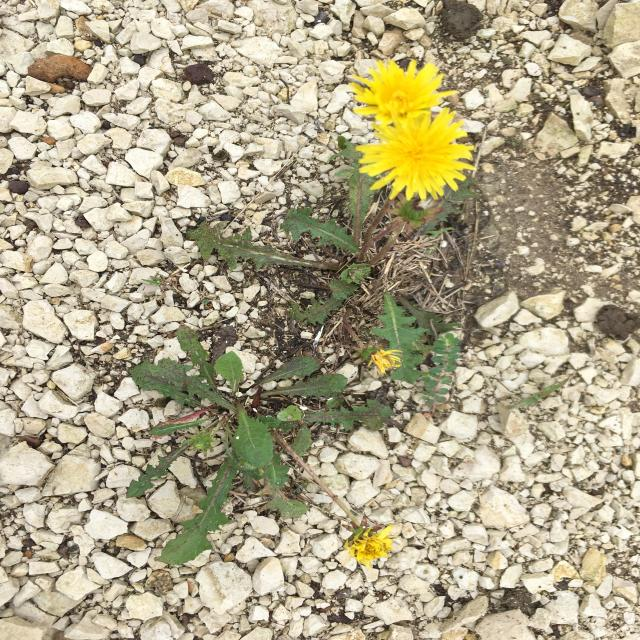SpottedSpurge: (422, 332, 461, 416)
